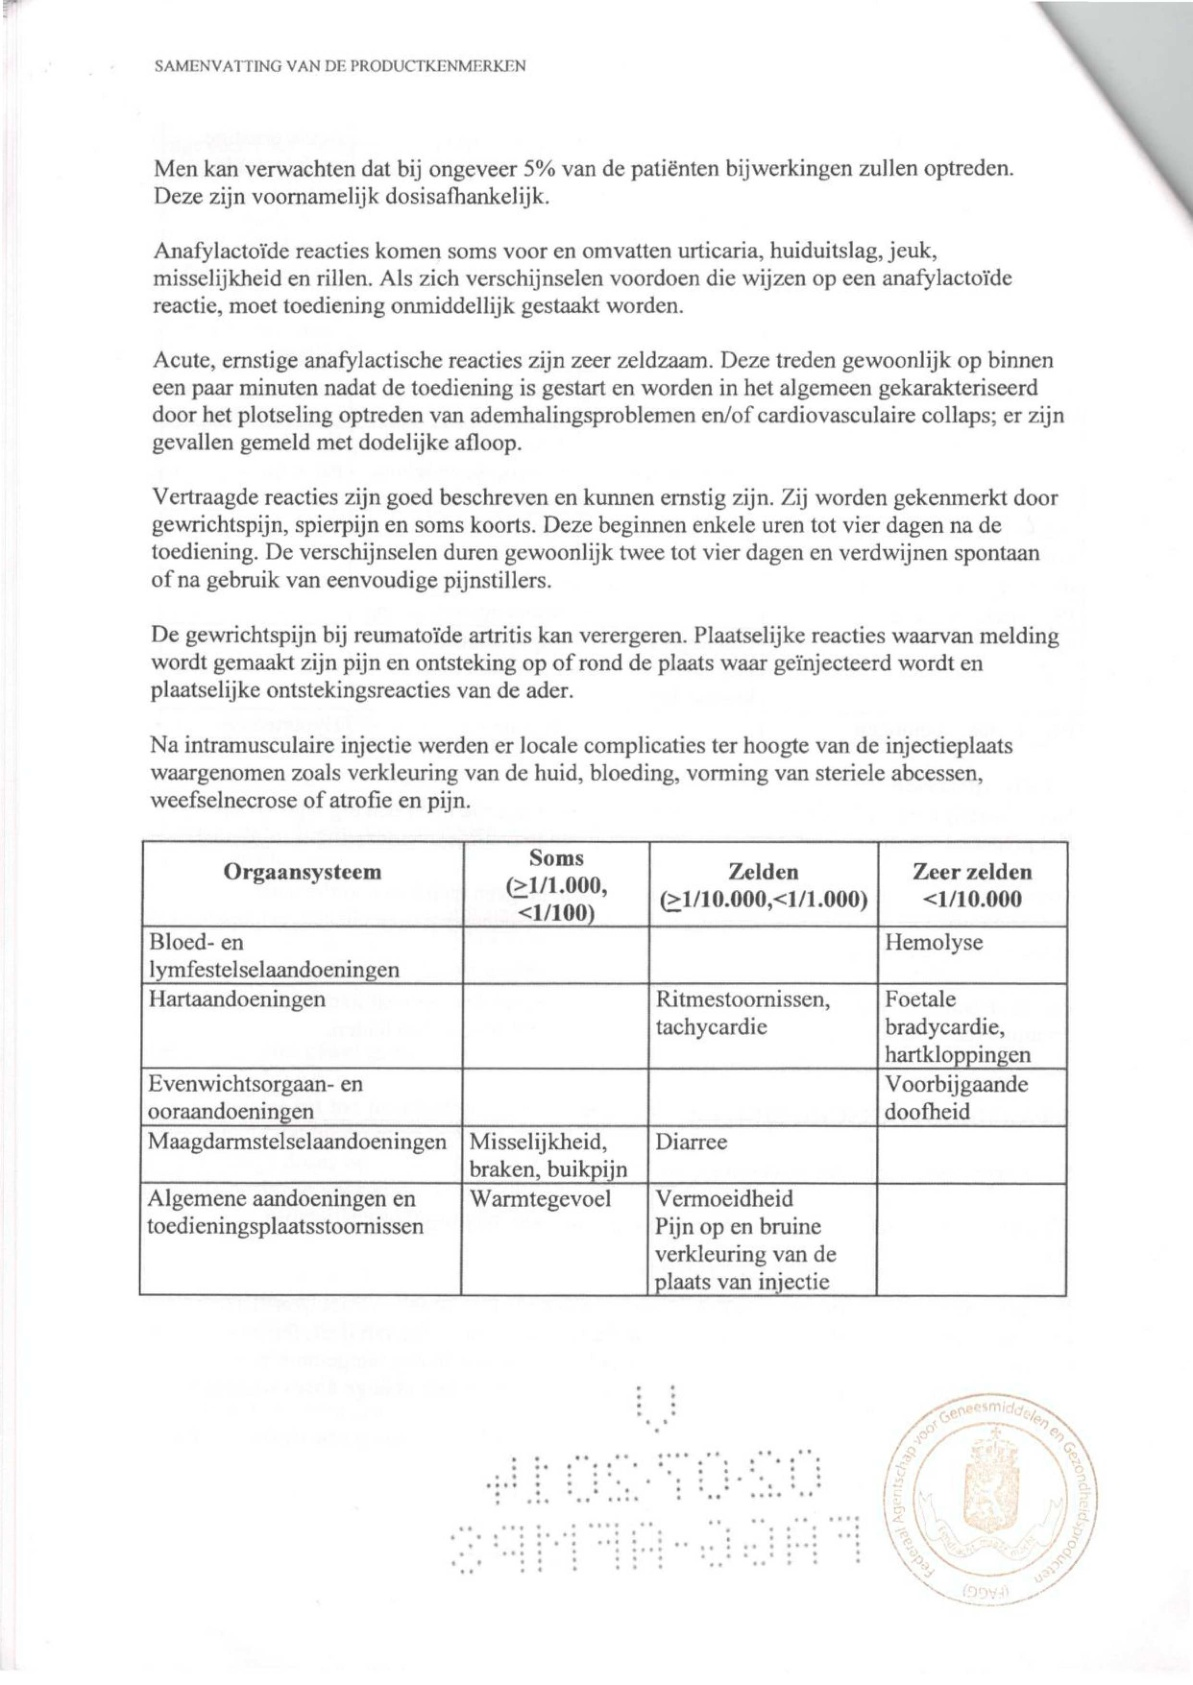full_lined: (138, 839, 1069, 1298)
